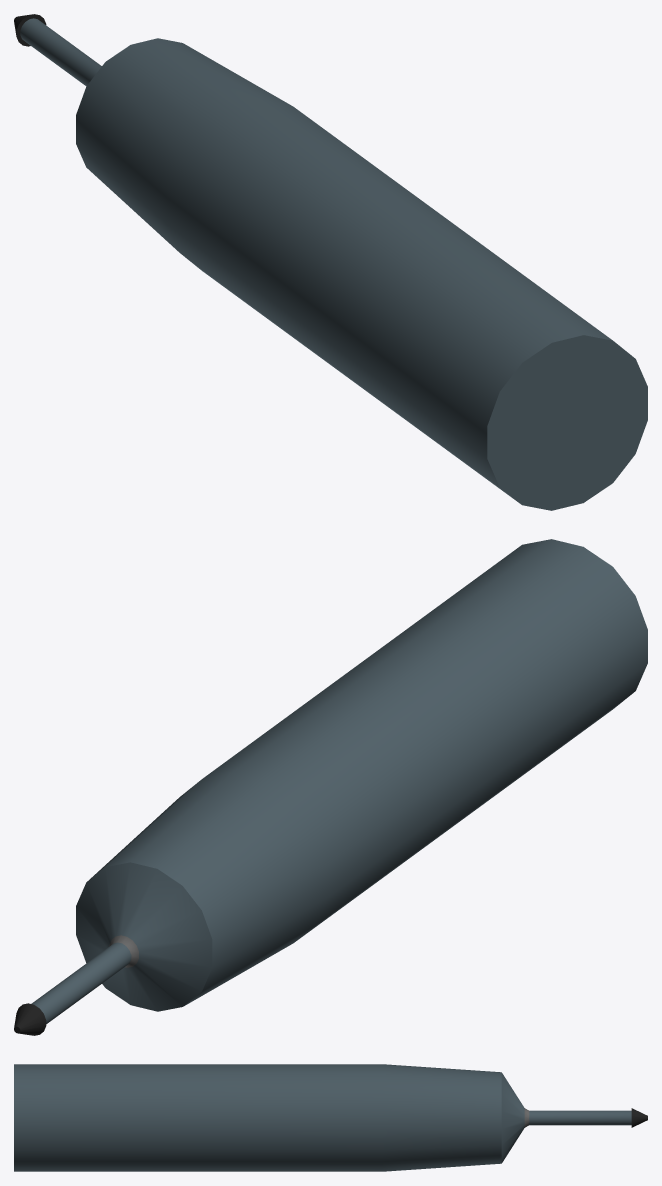
Rendered from ЗУР-ОГС_П.fbx.
3 renders of one model, top to bottom at view 1: azimuth 30°, elevation 25°; view 2: azimuth 150°, elevation 25°; view 3: azimuth 270°, elevation 25°, orthographic. The views are drawn at different scales.
Parts seen in each view (by area): view 1: Circle.006; view 2: Circle.006; view 3: Circle.006.
Boxes of the visible parts, x1,y1,x2,y2 form: Circle.006: [14, 14, 647, 510]; Circle.006: [14, 539, 647, 1035]; Circle.006: [14, 1064, 647, 1171].
Bounding box in the file's own units: 58.26 × 58.27 × 346.
1 material, 1 textured.
